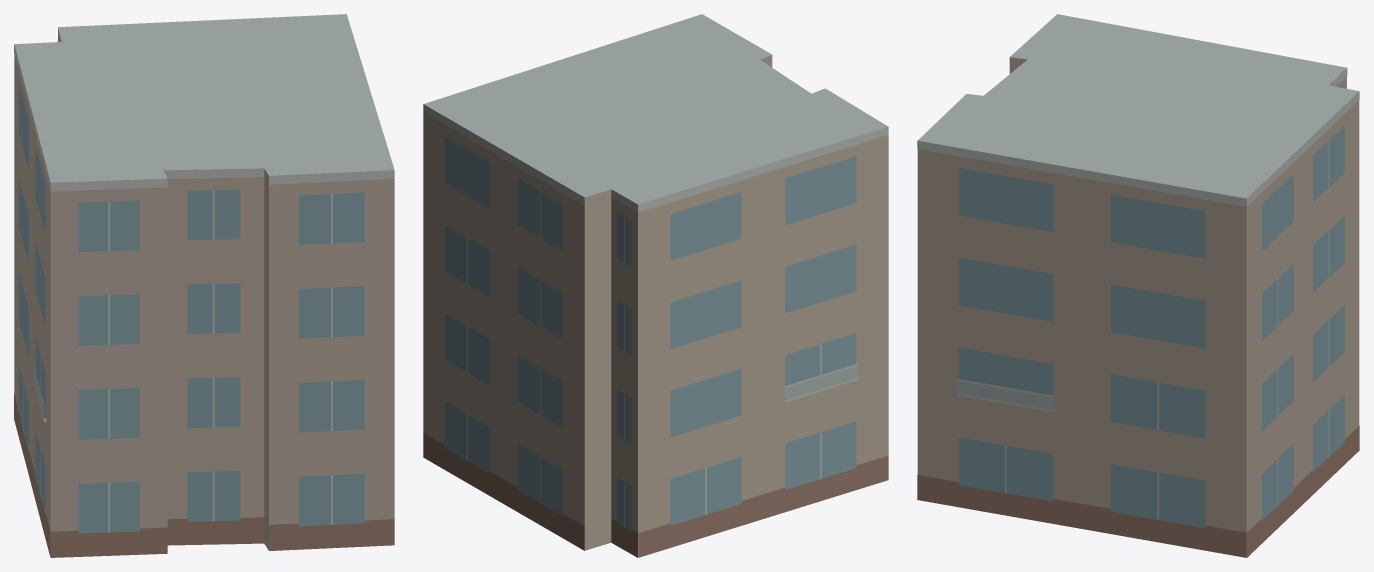
File: survey-upis-32990206.glb
3 views of the same model, side by side, from view 1: azimuth 30°, elevation 25°; view 2: azimuth 150°, elevation 25°; view 3: azimuth 270°, elevation 25° (orthographic). The views are drawn at different scales.
Parts seen in each view (by area): view 1: survey-upis-32990206.tmp; view 2: survey-upis-32990206.tmp; view 3: survey-upis-32990206.tmp.
Boxes of the visible parts, left/top/right/bottom form: survey-upis-32990206.tmp: left=14, top=14, right=394, bottom=557; survey-upis-32990206.tmp: left=423, top=14, right=888, bottom=557; survey-upis-32990206.tmp: left=917, top=14, right=1359, bottom=557.
Size of the model in its own units: 11.58 by 10.5 by 11.72.
